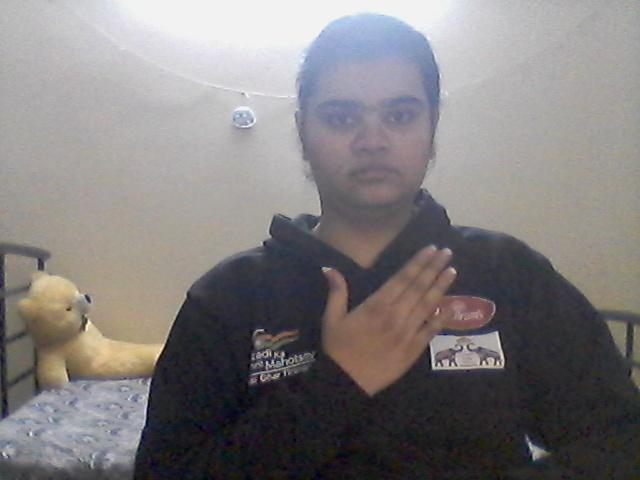please: (314, 250, 463, 399)
